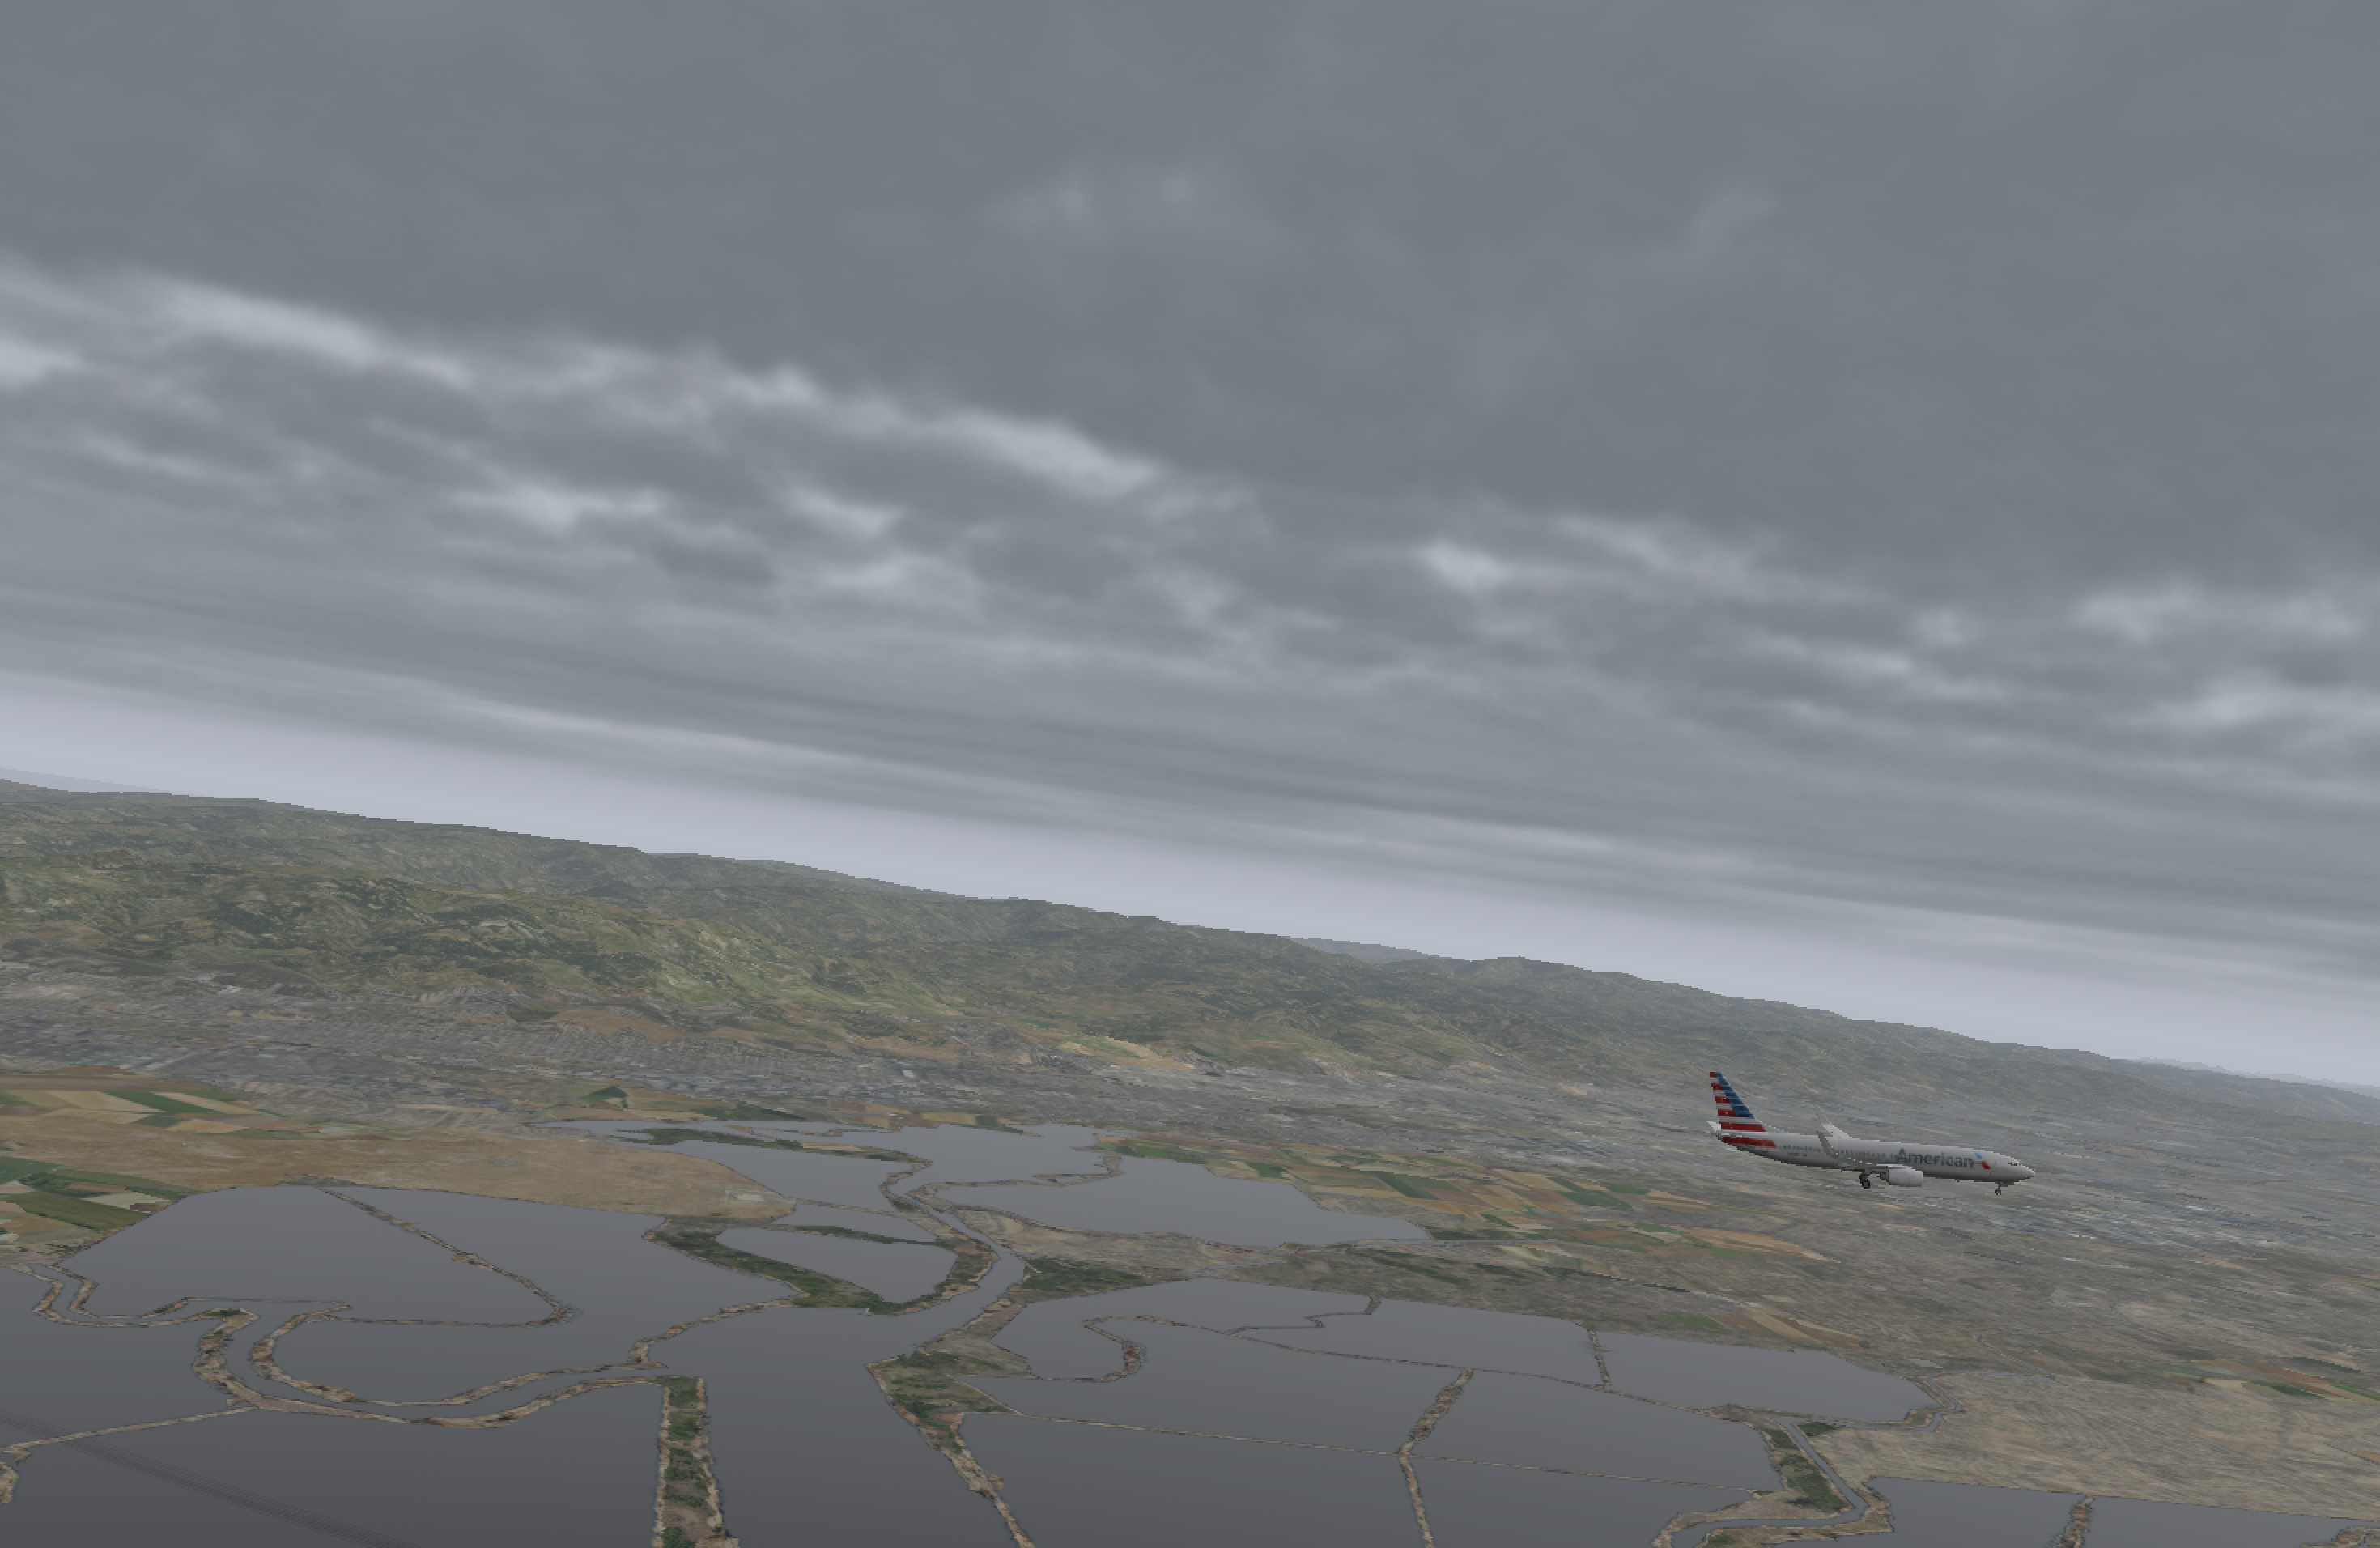aircraft: (1731, 1107, 2024, 1217)
